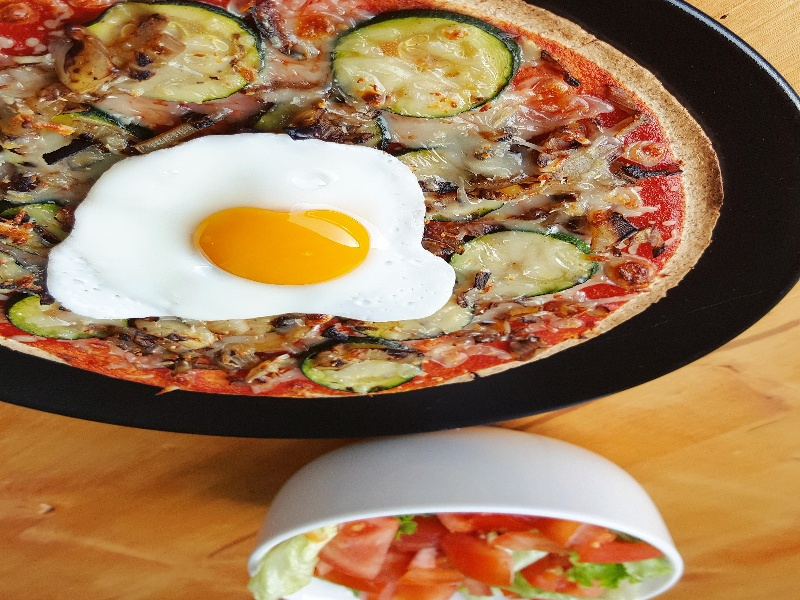oeuf: (155, 196, 395, 299)
